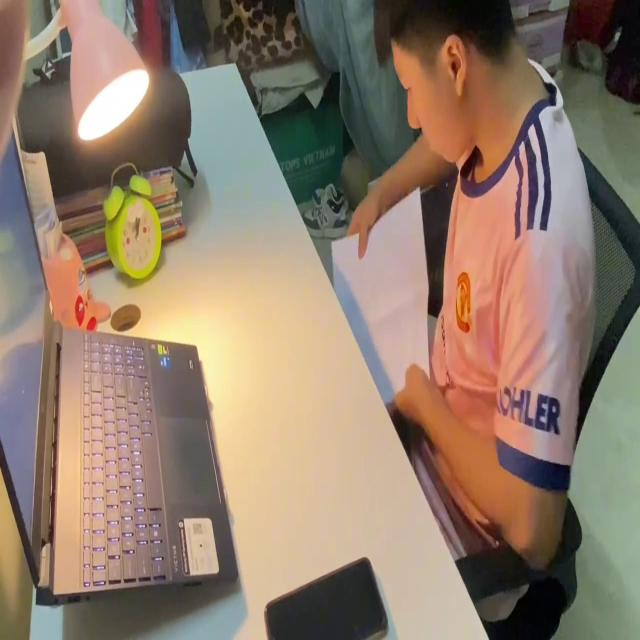book: (328, 183, 431, 408)
laptop: (3, 124, 238, 593)
phone: (254, 550, 388, 640)
student: (335, 0, 597, 613)
